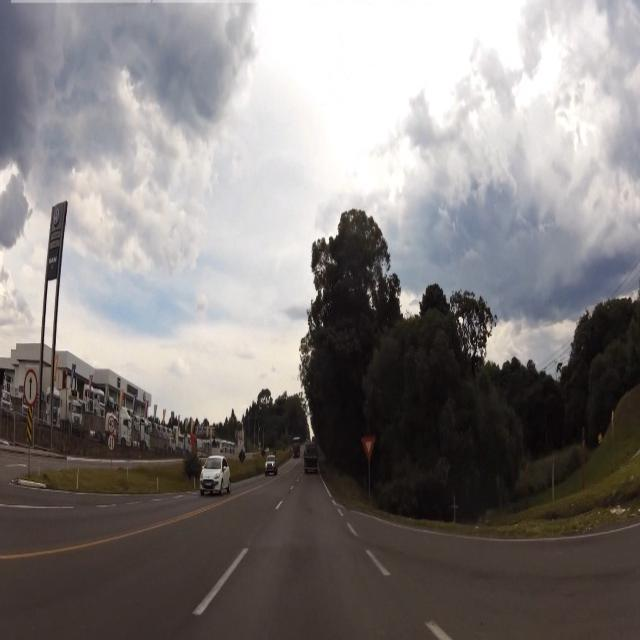R-2: (361, 435, 376, 463)
